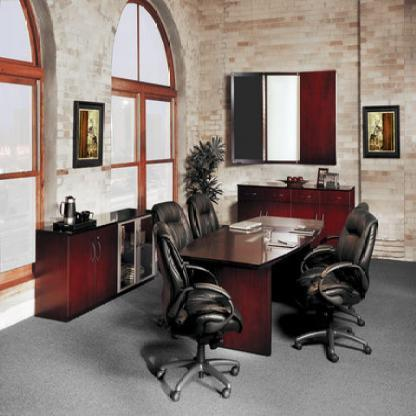chair: (149, 224, 245, 413), (284, 203, 386, 367), (149, 197, 192, 248), (192, 188, 219, 234)
light: (350, 3, 370, 212)
table: (172, 215, 344, 362)
